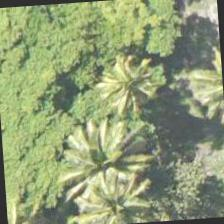Kelapa_Sawit: (88, 38, 184, 134), (50, 105, 146, 201), (64, 164, 159, 223)
